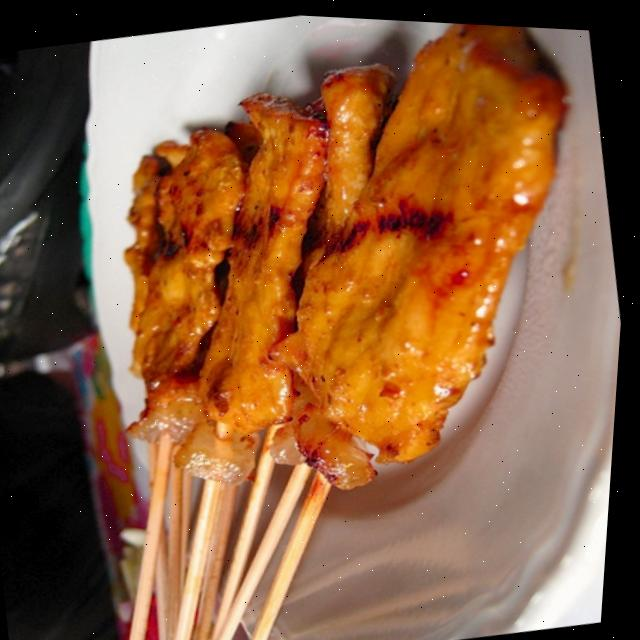牛肉菜式: (17, 2, 640, 640)
